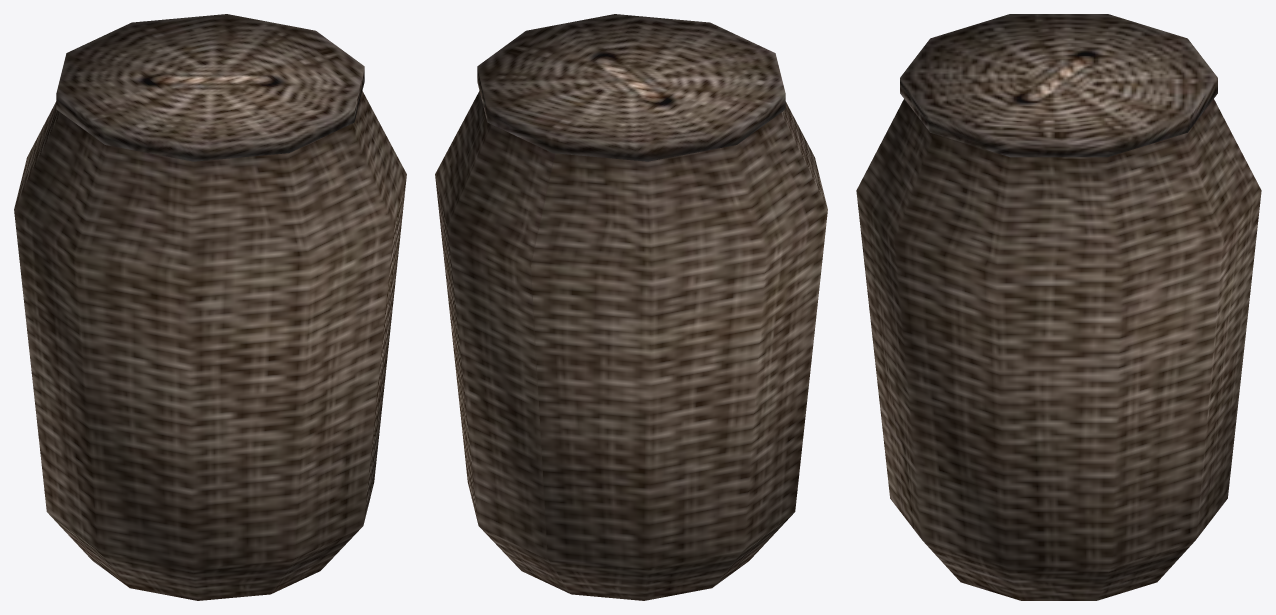
Rendered from Tv_Basket.glb.
3 views of the same model, side by side, from view 1: azimuth 30°, elevation 25°; view 2: azimuth 150°, elevation 25°; view 3: azimuth 270°, elevation 25° (orthographic).
Parts seen in each view (by area): view 1: basket; view 2: basket; view 3: basket.
Part boxes in pixels (bbox=[...]): basket: bbox=[14, 14, 406, 600]; basket: bbox=[435, 14, 827, 600]; basket: bbox=[856, 14, 1261, 600].
Bounding box in the file's own units: 0.5893 × 0.8 × 0.6196.
1 material, 1 textured.
